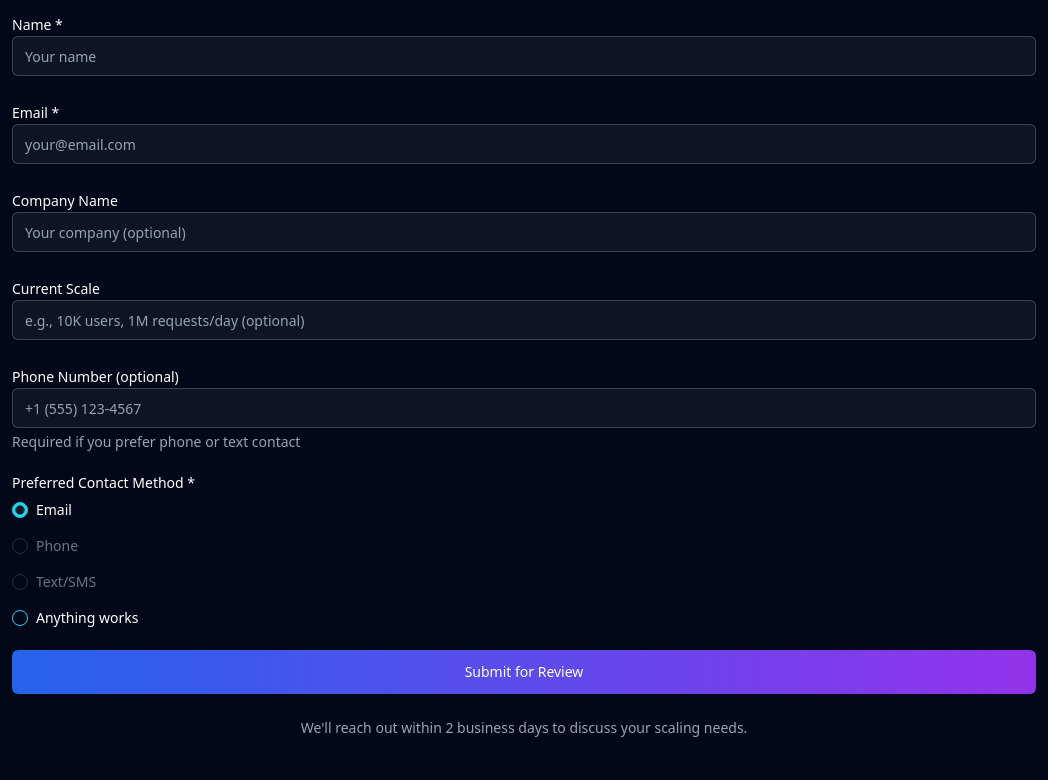
it: Adventure Game Forms › LaunchControl Path Forms › LaunchControlWaitlistForm › handles submission errors
In the field with placeholder "Your name": {"x": 524, "y": 56} [12,36,1036,76], type "Jane@123"
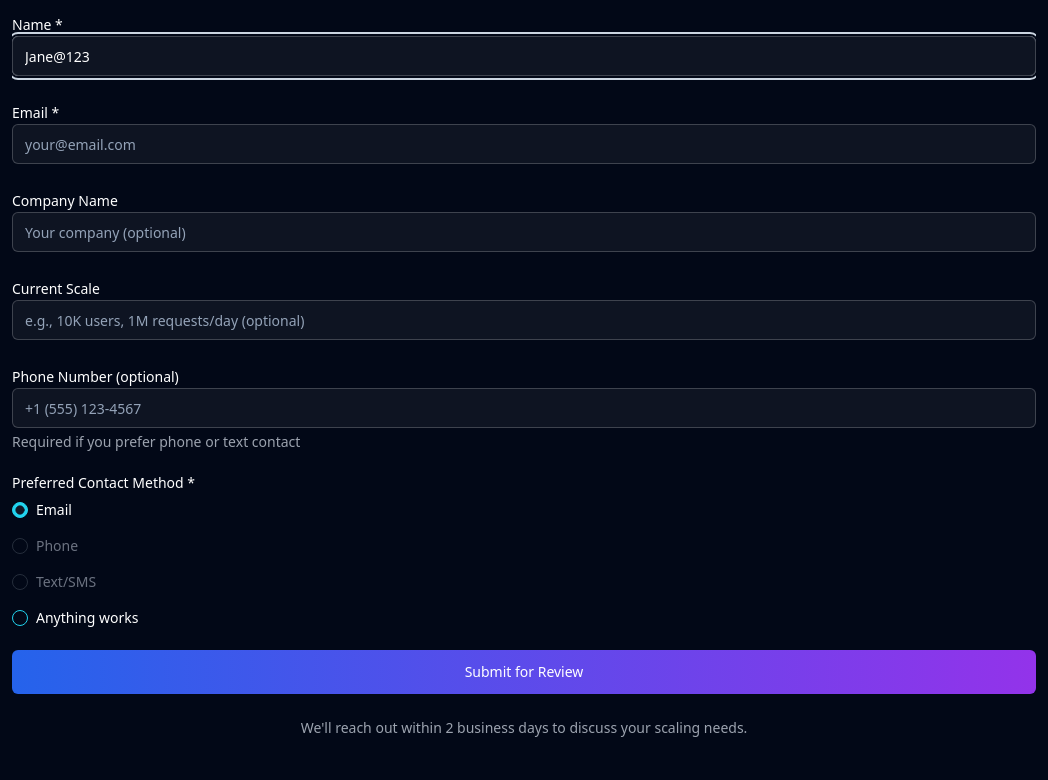
In the field with placeholder "your@email.com": {"x": 524, "y": 144} [12,124,1036,164], type "jane@example.com"
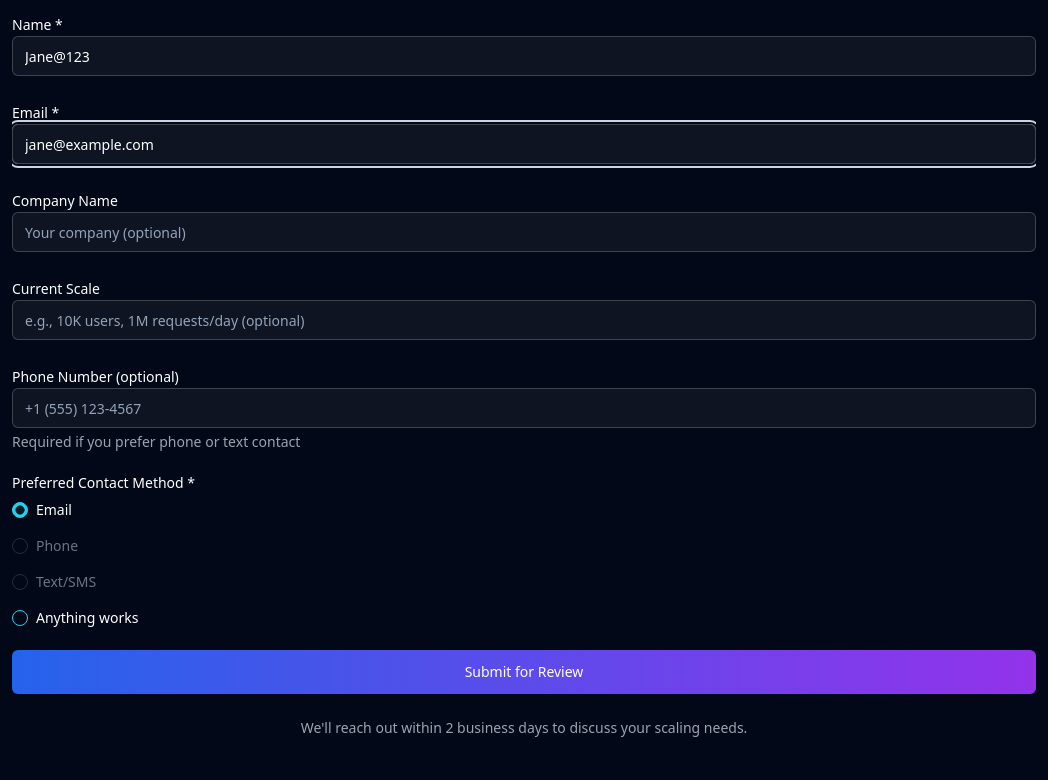
Click the button "Submit for Review": {"x": 524, "y": 672} [12,650,1036,694]
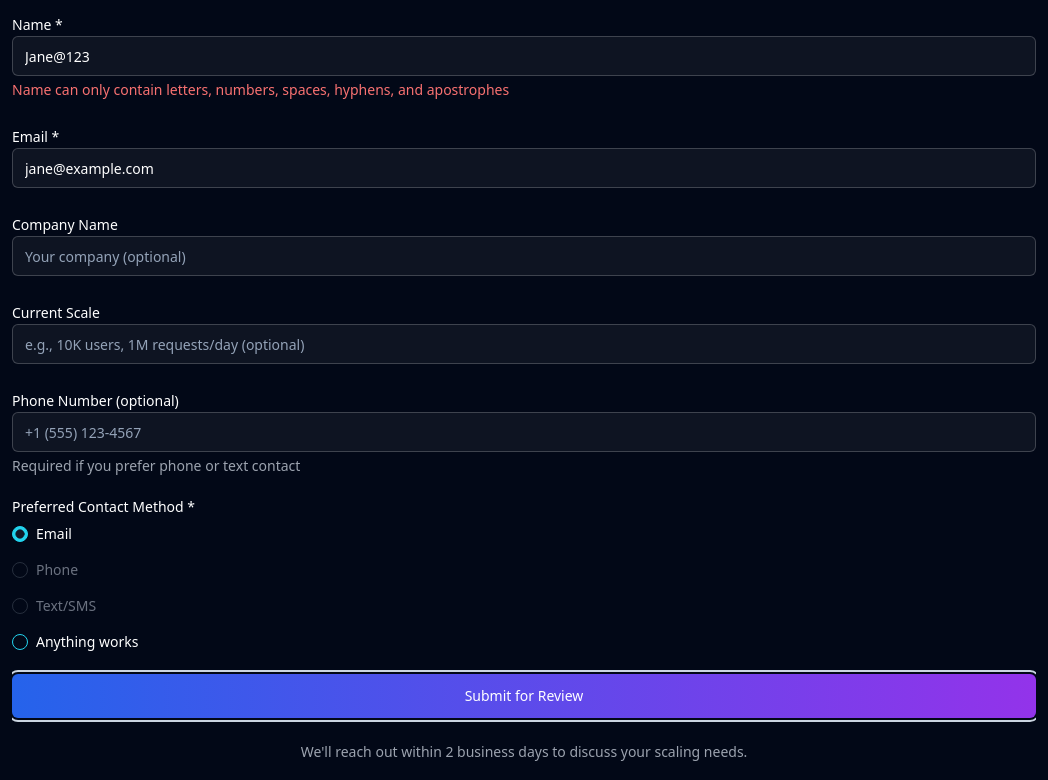
Check: the text "Name can only contain letters, numbers" is shown, box [12,80,509,99]
